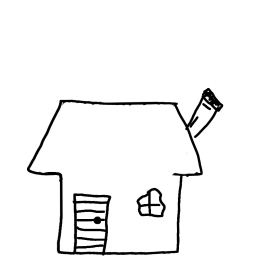bottom_placed_house: (3, 5, 260, 260)
chimney: (180, 75, 229, 146)
closed_window: (129, 177, 173, 224)
door: (69, 185, 113, 260)
single_line_roof: (24, 92, 212, 181)
wall: (49, 158, 190, 258)
